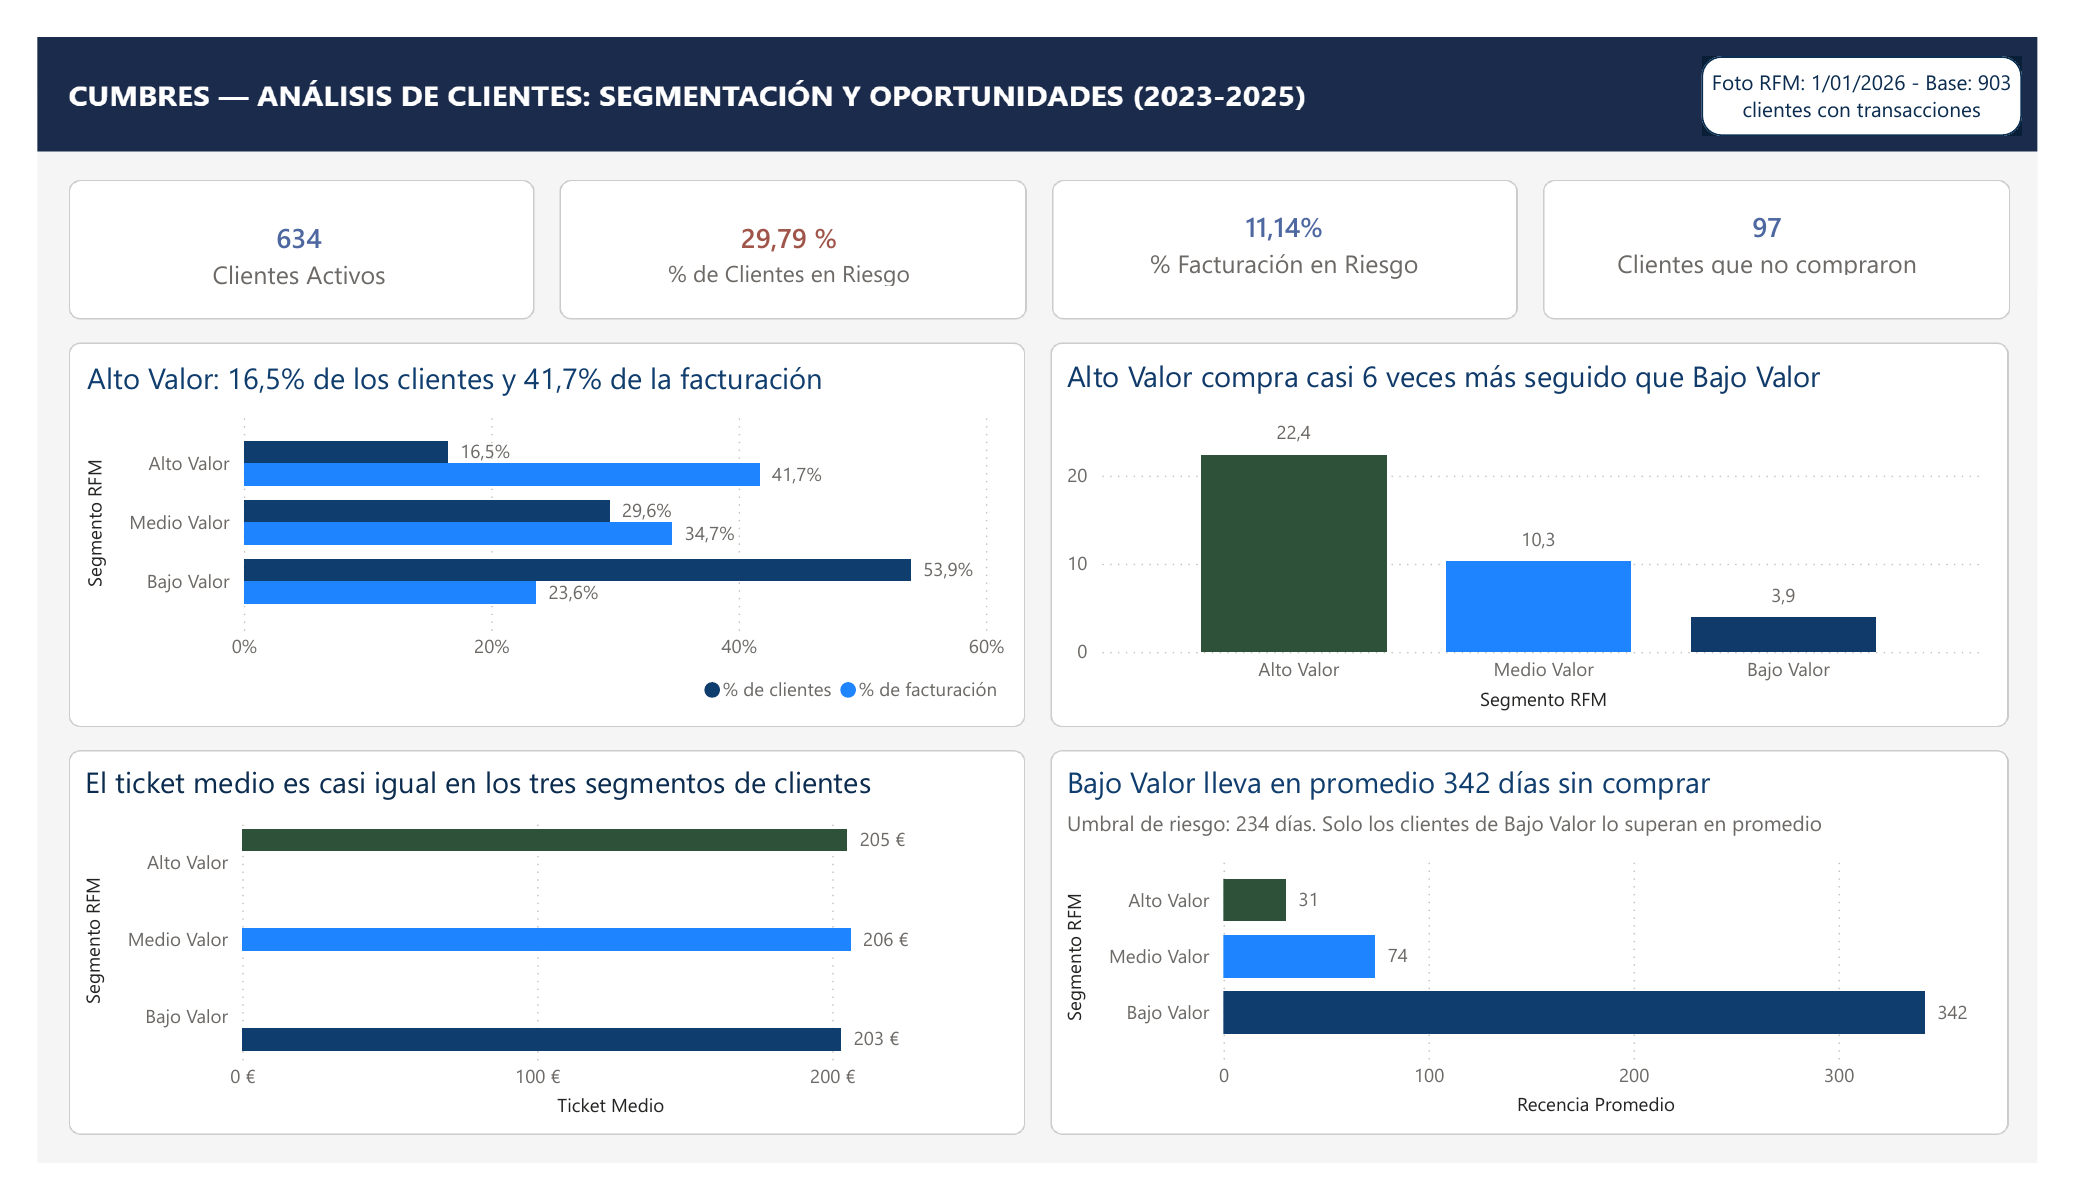

The page's visual inventory and layout, read from the dashboard file:
{"tool":"powerbi","page":{"name":"2. Análisis de clientes","canvas":[1280,720],"ordinal":2},"visuals":[{"type":"clusteredBarChart","title":" Alto Valor: 16,5% de los clientes y 41,7% de la facturación","fields":{"Category":["clientes_rfm.segmento_rfm"],"Y":["Medidas.% Clientes Segmento","Medidas.% Revenue Segmento"]},"box":[26.8,204.8,597,231.5],"z":0},{"type":"cardVisual","fields":{"Data":["Medidas.% Churn"]},"box":[339,102.4,283.5,73.6],"z":1000},{"type":"clusteredBarChart","title":"El ticket medio es casi igual en los tres segmentos de clientes","fields":{"Category":["clientes_rfm.segmento_rfm"],"Series":["clientes_rfm.segmento_rfm"],"Y":["Medidas.Ticket Medio"]},"box":[26.2,464.3,597,232],"z":2000},{"type":"cardVisual","fields":{"Data":["Medidas.Clientes Activos"]},"box":[26,102.4,283.5,73.6],"z":3000},{"type":"clusteredColumnChart","title":"Alto Valor compra casi 6 veces más seguido que Bajo Valor","fields":{"Category":["clientes_rfm.segmento_rfm"],"Y":["Medidas.Frecuencia Promedio"]},"box":[653.6,203.6,597,232],"z":4000},{"type":"cardVisual","fields":{"Data":["Medidas.% Revenue en Riesgo"]},"box":[653.6,88.1,288.1,88.1],"z":5000},{"type":"cardVisual","fields":{"Data":["Medidas.Usuarios Sin Transacciones"]},"box":[965.2,95.2,283.5,73.6],"z":6000},{"type":"shape","box":[1064.8,11.5,204.9,51.9],"z":7000},{"type":"clusteredBarChart","title":" Bajo Valor lleva en promedio 342 días sin comprar","fields":{"Category":["clientes_rfm.segmento_rfm"],"Y":["Medidas.Recencia Promedio"]},"box":[654,464,597,232],"z":8000}]}

Visuals, with their boxes on the page's 1280x720 design canvas (x1, y1, x2, y2). These are canvas units, not pixel positions in the 2075x1200 screenshot, which may show the page scaled, cropped or inside an application window:
" Alto Valor: 16,5% de los clientes y 41,7% de la facturación" clusteredBarChart: 27:205:624:436
cardVisual - Medidas.% Churn: 339:102:622:176
"El ticket medio es casi igual en los tres segmentos de clientes" clusteredBarChart: 26:464:623:696
cardVisual - Medidas.Clientes Activos: 26:102:310:176
"Alto Valor compra casi 6 veces más seguido que Bajo Valor" clusteredColumnChart: 654:204:1251:436
cardVisual - Medidas.% Revenue en Riesgo: 654:88:942:176
cardVisual - Medidas.Usuarios Sin Transacciones: 965:95:1249:169
shape: 1065:12:1270:63
" Bajo Valor lleva en promedio 342 días sin comprar" clusteredBarChart: 654:464:1251:696
